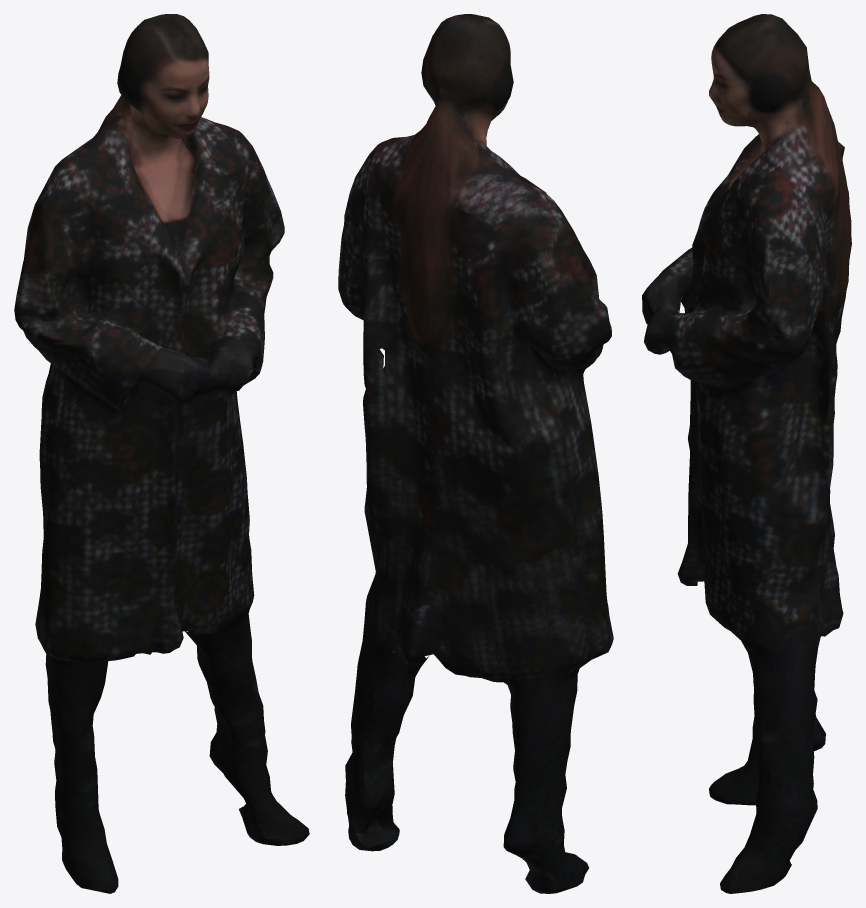
Rendered from evercoast.0052.gltf.
3 views of the same model, side by side, from view 1: azimuth 30°, elevation 25°; view 2: azimuth 150°, elevation 25°; view 3: azimuth 270°, elevation 25° (orthographic). The views are drawn at different scales.
Parts seen in each view (by area): view 1: HIGH; view 2: HIGH; view 3: HIGH.
Part boxes in pixels (x1=…): HIGH: x1=14, y1=14, x2=309, y2=893; HIGH: x1=338, y1=14, x2=613, y2=893; HIGH: x1=642, y1=14, x2=851, y2=893.
Size of the model in its own units: 0.6168 by 1.83 by 0.4241.
Materials: 1 (1 with a texture image).
